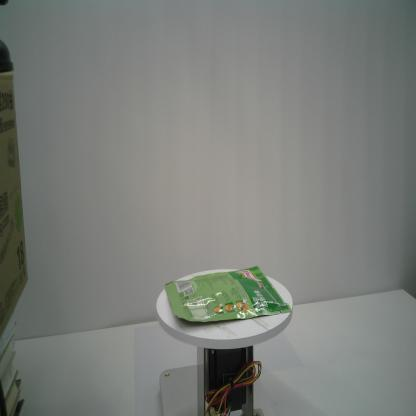Seasoner: (164, 265, 292, 323)
